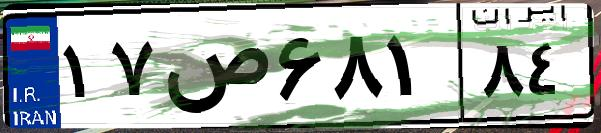1: (385, 28, 445, 110), (57, 26, 110, 100)
4: (525, 38, 570, 115)
6: (270, 28, 330, 110)
7: (110, 28, 158, 98)
8: (330, 28, 385, 110), (475, 38, 525, 113)
ص: (158, 20, 270, 120)
